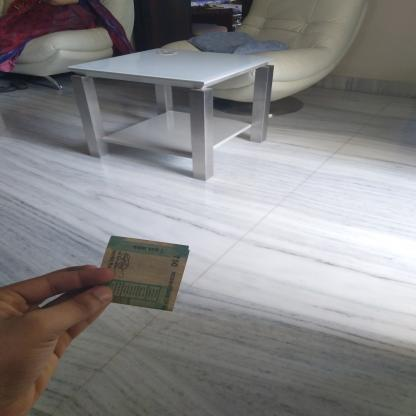New50Back: (100, 240, 188, 308)
